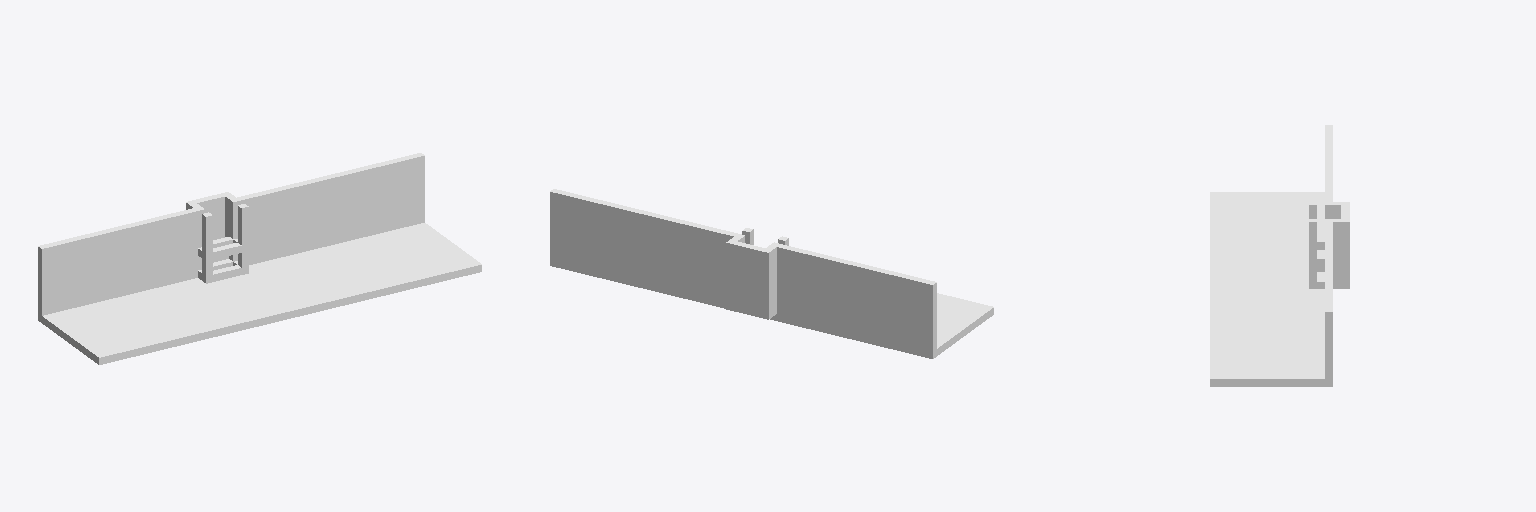
Rendered from Pasillo3.obj.
3 views of the same model, side by side, from view 1: azimuth 30°, elevation 25°; view 2: azimuth 150°, elevation 25°; view 3: azimuth 270°, elevation 25° (orthographic).
Parts seen in each view (by area): view 1: object 1; view 2: object 1; view 3: object 1.
Part boxes in pixels (x1,y1,x2,y2): object 1: (38,153,481,364); object 1: (550,189,993,358); object 1: (1210,125,1349,386).
Size of the model in its own units: 5.4 by 1 by 1.7.